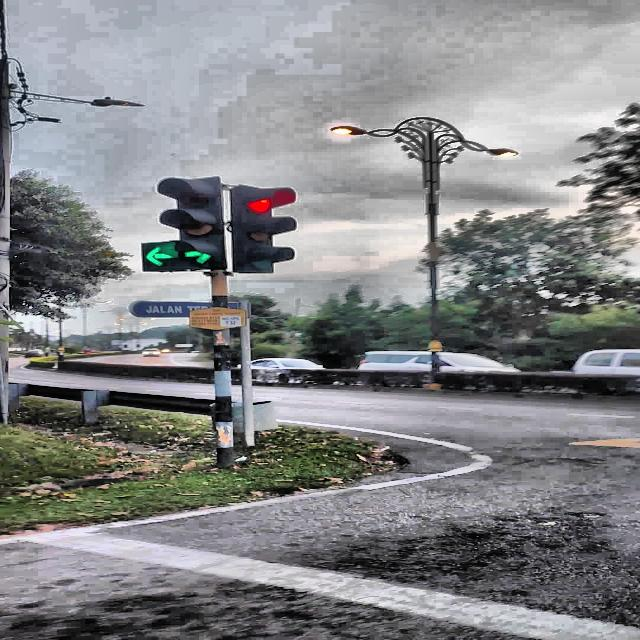green: (138, 179, 182, 273), (180, 177, 222, 272)
red: (231, 184, 296, 271)
